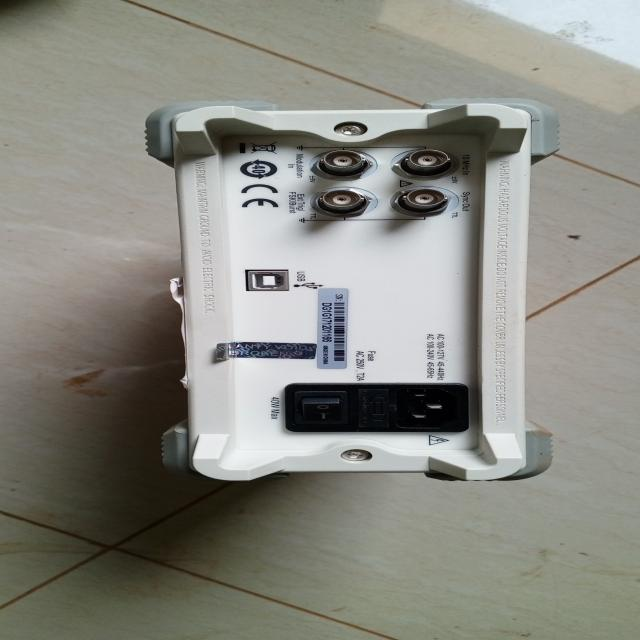Function Arbitrary Wave Form Generator 25Mhz: (96, 95, 594, 502)
